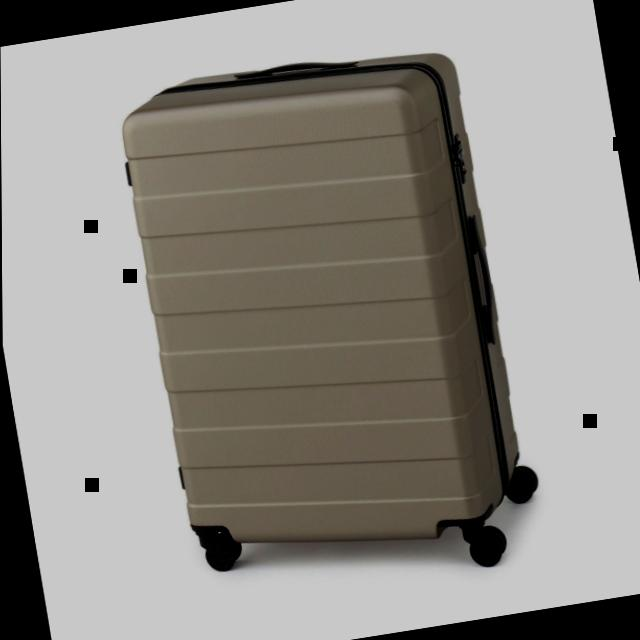luggage: (103, 26, 540, 584)
